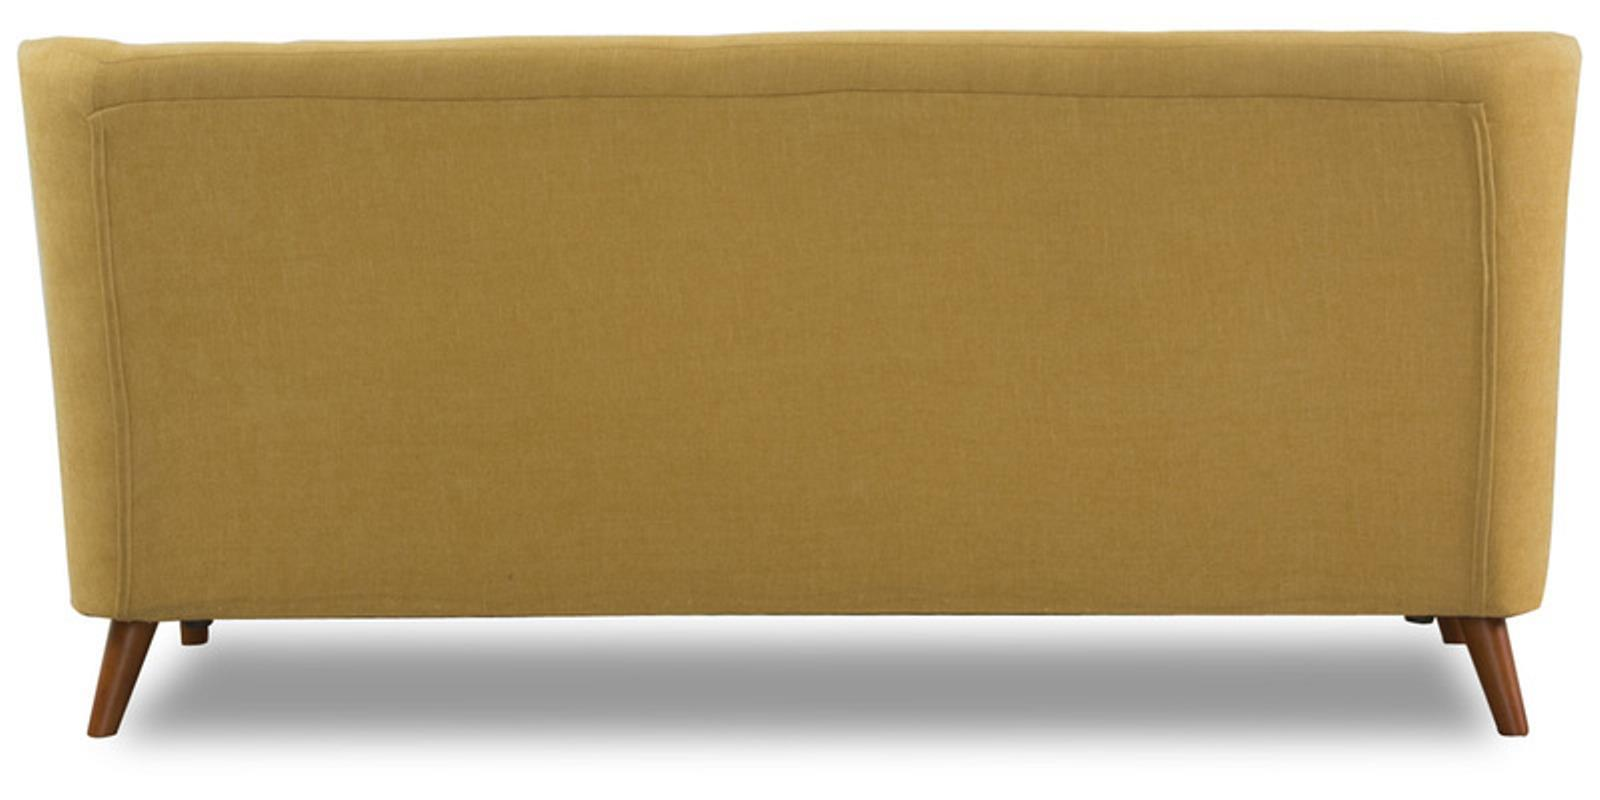Havana Three Seater Sofa in Ochre Colour by CasaCraft: (10, 24, 1560, 764)
